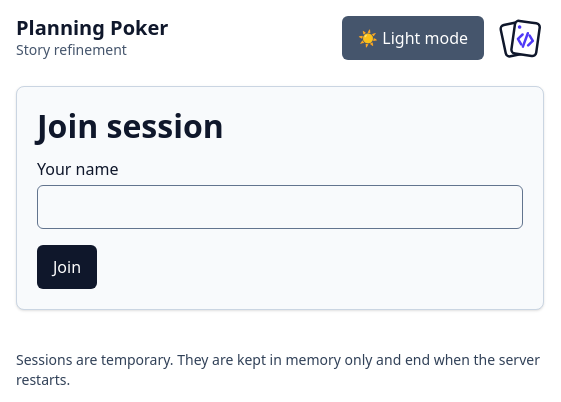
Scenario: GamePage › join prompt › shows the not-found view when the name join acks GAME_NOT_FOUND
Type "Anna" into the field labelled "Your name".
click(280, 207); type("Anna")  # box [37, 185, 523, 229]
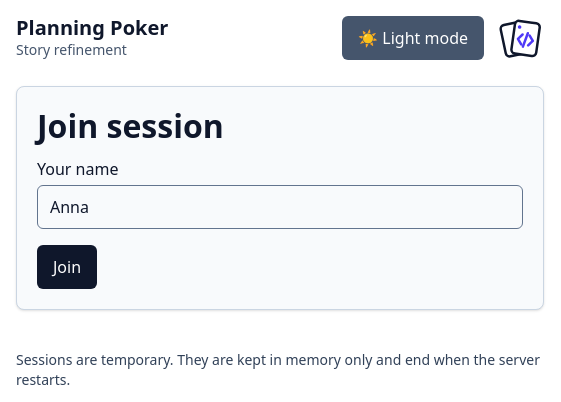
Click the button "Join".
click(67, 267)  # box [37, 245, 97, 289]
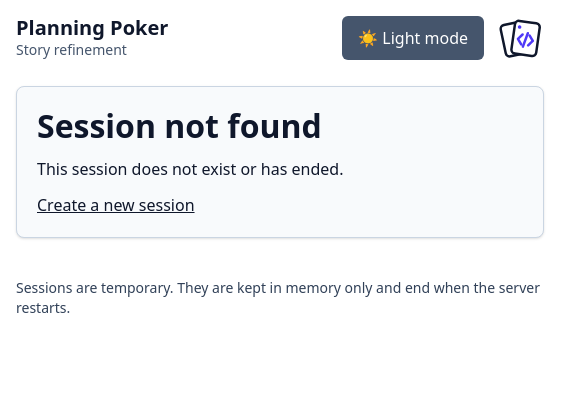
Now the heading "Session not found" is shown, box [37, 104, 322, 147]
